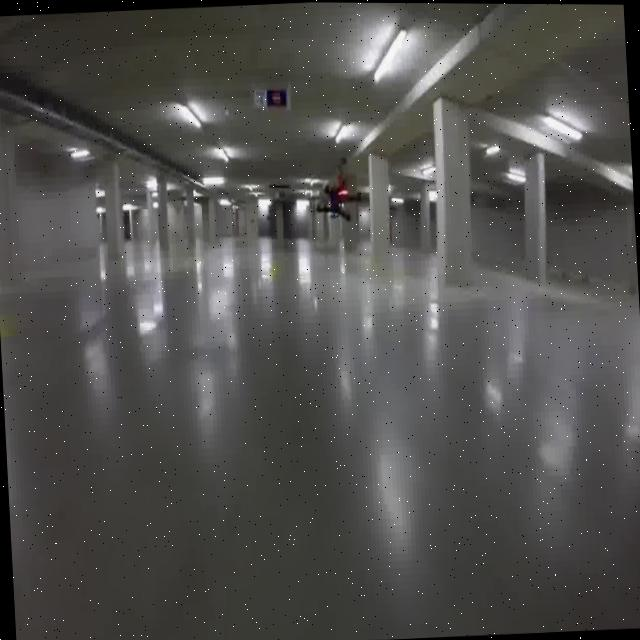drone: (283, 140, 392, 251)
